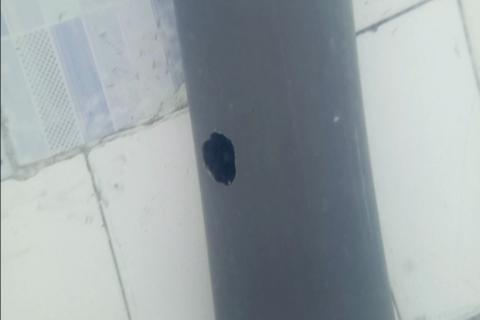kebocoran: (200, 130, 237, 186)
